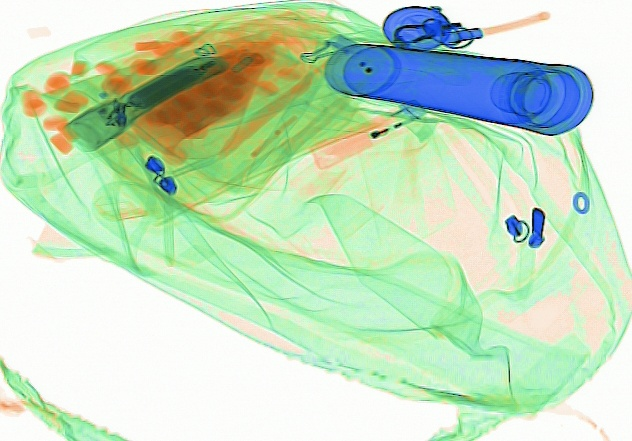lighter: (311, 98, 426, 170)
